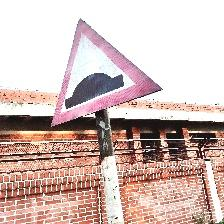Speed-breaker: (51, 18, 163, 127)
